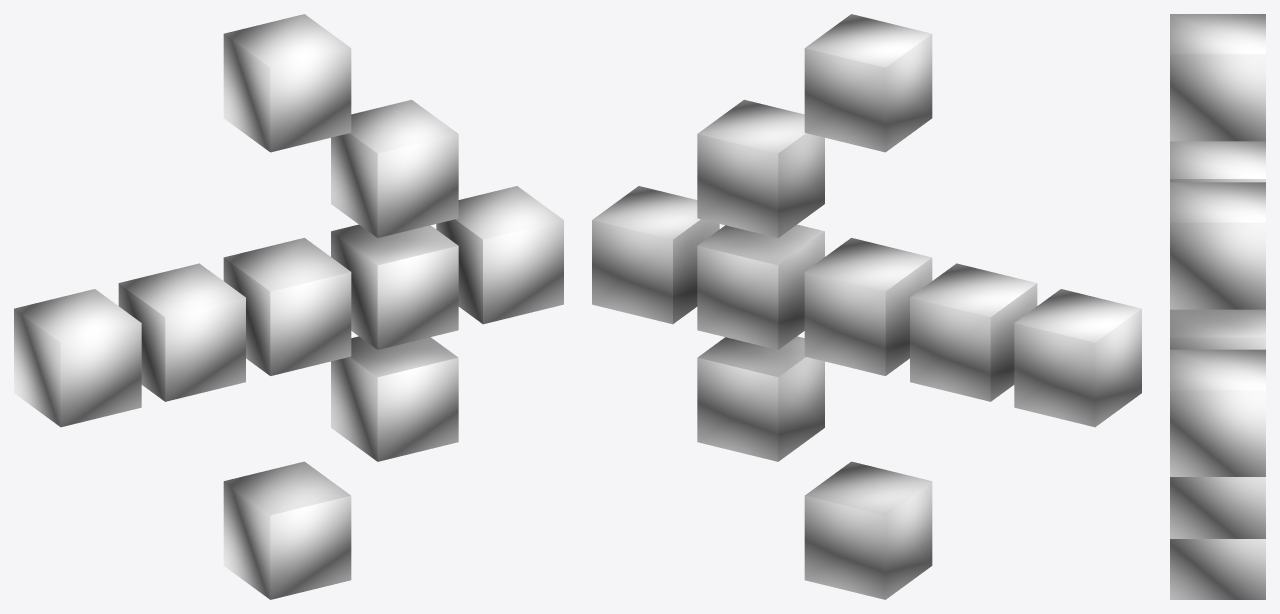
File: Arrow13.fbx
3 views of the same model, side by side, from view 1: azimuth 30°, elevation 25°; view 2: azimuth 150°, elevation 25°; view 3: azimuth 270°, elevation 25° (orthographic). The views are drawn at different scales.
Visible parts, largest first — view 1: Arrow13; view 2: Arrow13; view 3: Arrow13.
Part boxes in pixels (<box>): Arrow13: <box>14,14,563,599</box>; Arrow13: <box>592,14,1141,599</box>; Arrow13: <box>1170,14,1265,599</box>.
Size of the model in its own units: 4.95 by 5 by 0.7951.
